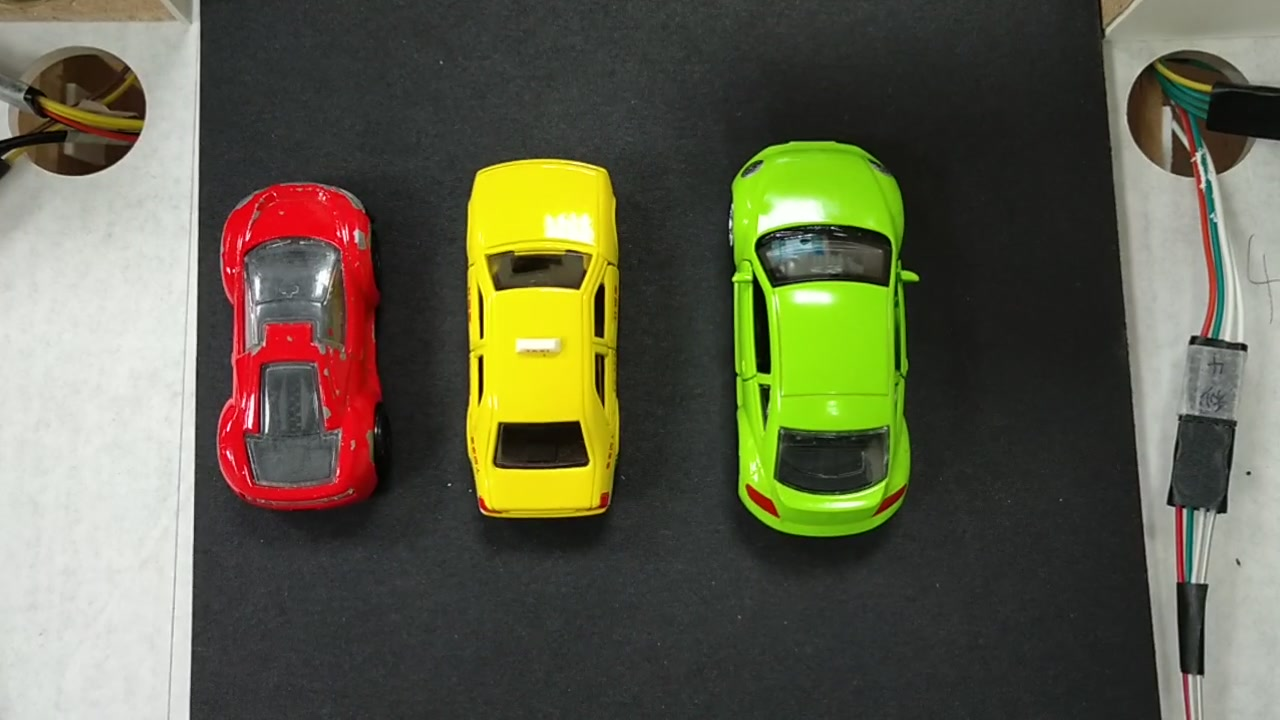car: (732, 148, 919, 525), (462, 167, 621, 519), (217, 189, 371, 503)
